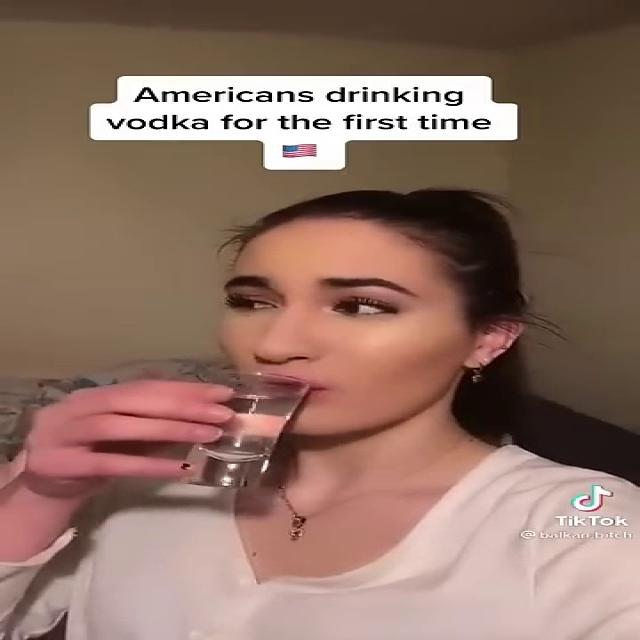Cup: (176, 370, 311, 487)
Hand: (18, 376, 244, 501)
Mouth: (249, 374, 344, 404)
